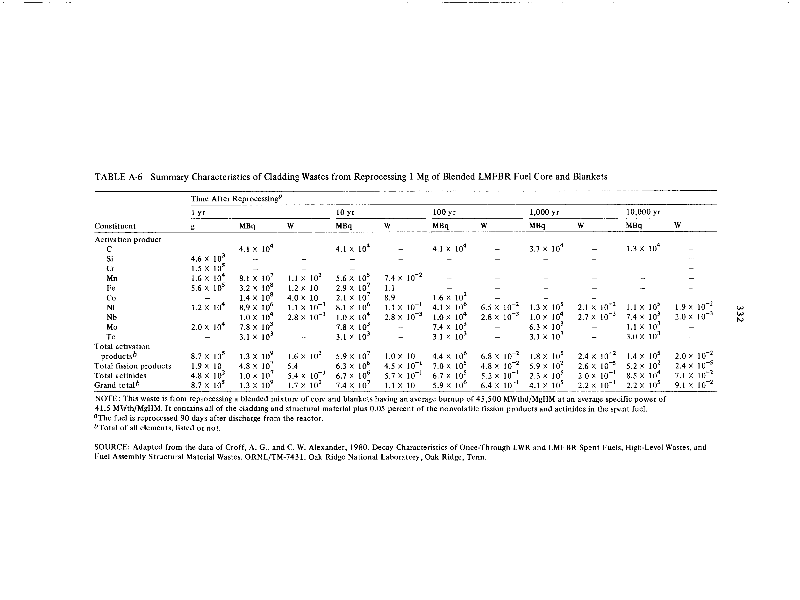table: (95, 191, 720, 441)
